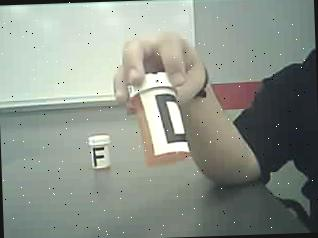Bottle D: (119, 70, 194, 172)
Bottle F: (84, 131, 116, 176)
